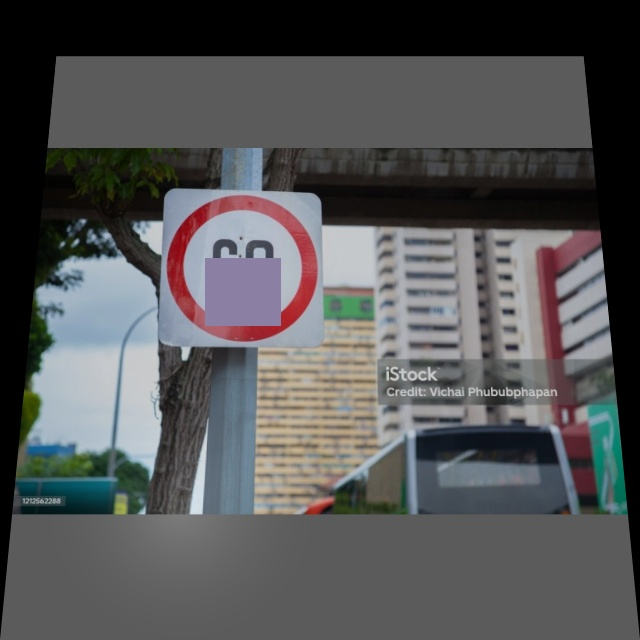Speed_Limit_60: (158, 191, 325, 350)
